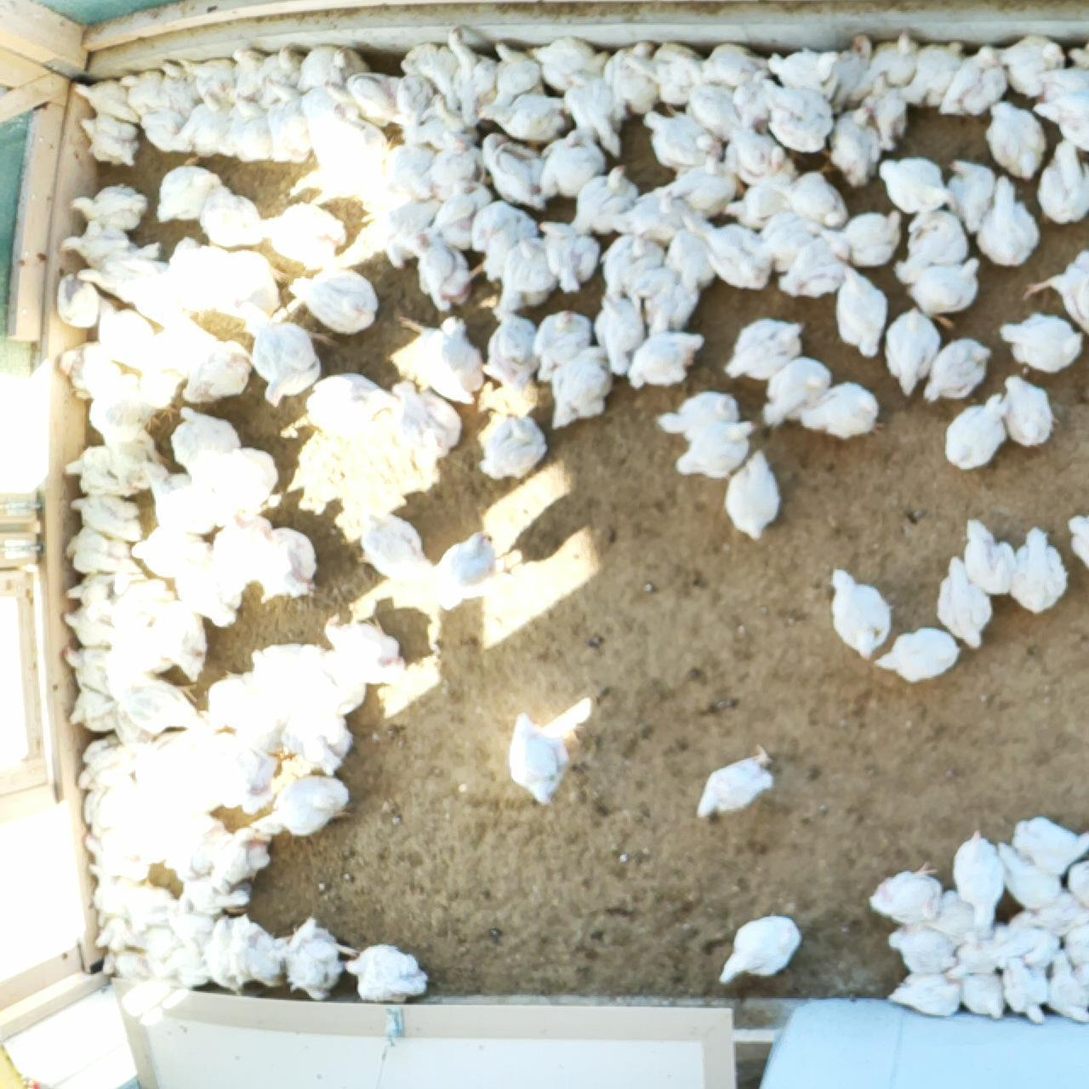chicken: (242, 315, 327, 408), (174, 562, 265, 646), (681, 217, 779, 293), (280, 920, 355, 1015), (824, 566, 898, 659), (753, 83, 847, 156), (498, 718, 578, 803), (929, 558, 999, 655), (978, 177, 1048, 274), (687, 750, 786, 818), (720, 448, 789, 542), (547, 342, 626, 424), (402, 320, 486, 397), (879, 304, 944, 402), (591, 291, 663, 379), (948, 830, 1006, 939), (914, 334, 994, 413), (391, 385, 469, 465), (206, 924, 282, 1006), (825, 202, 914, 271), (890, 215, 978, 283), (166, 409, 248, 481), (752, 356, 837, 425), (295, 269, 387, 331), (723, 318, 812, 382), (800, 379, 885, 446), (619, 180, 704, 247), (499, 227, 572, 305), (721, 914, 802, 984), (661, 157, 748, 222), (305, 375, 399, 435), (773, 233, 857, 298), (617, 332, 708, 392), (408, 240, 487, 309), (869, 625, 963, 682), (942, 398, 1012, 474), (982, 105, 1052, 180), (476, 92, 585, 140), (601, 234, 682, 298), (348, 944, 431, 1006), (1029, 257, 1089, 342), (327, 622, 405, 687), (272, 775, 355, 836), (641, 117, 733, 172), (677, 417, 755, 481), (434, 536, 504, 607), (452, 36, 505, 129), (570, 170, 641, 239), (466, 199, 537, 268), (833, 269, 888, 356), (263, 213, 355, 265), (1014, 527, 1070, 612), (119, 533, 220, 580), (362, 510, 421, 590), (964, 521, 1022, 602), (217, 442, 278, 518), (916, 884, 989, 947), (534, 306, 592, 385), (65, 225, 162, 272), (538, 130, 610, 193), (869, 871, 947, 929), (998, 956, 1058, 1031), (156, 164, 231, 224), (940, 48, 1008, 114), (159, 599, 213, 682), (901, 48, 972, 111), (878, 152, 951, 213), (1036, 139, 1089, 222), (913, 259, 988, 316), (488, 316, 544, 392), (941, 155, 999, 228), (999, 316, 1082, 367), (482, 419, 548, 483), (256, 531, 315, 602), (661, 391, 743, 442), (1001, 844, 1068, 906), (659, 225, 721, 291), (204, 832, 273, 890), (63, 571, 137, 625), (999, 375, 1055, 446), (532, 38, 607, 91), (723, 179, 795, 233), (784, 174, 852, 231), (182, 345, 252, 400), (206, 186, 269, 247), (189, 104, 248, 168), (77, 114, 143, 171), (544, 227, 600, 294), (65, 450, 140, 499), (887, 927, 959, 978), (83, 252, 162, 298), (289, 719, 356, 773), (777, 51, 843, 105), (67, 187, 148, 231), (836, 111, 881, 190), (860, 83, 909, 155), (655, 47, 715, 105), (950, 962, 1013, 1016), (66, 531, 143, 575), (888, 972, 961, 1018), (1010, 820, 1089, 862), (78, 840, 157, 882), (220, 259, 278, 316), (1001, 38, 1063, 91), (1007, 915, 1062, 974), (690, 85, 749, 140), (295, 41, 365, 87), (378, 208, 441, 259), (62, 348, 126, 397), (69, 499, 147, 539), (726, 135, 789, 184), (491, 41, 543, 100), (384, 145, 440, 199), (351, 73, 411, 123), (58, 605, 126, 649), (60, 650, 128, 693), (106, 309, 156, 367), (645, 288, 701, 338), (78, 804, 140, 849), (1045, 956, 1089, 1019), (152, 927, 205, 979), (264, 102, 313, 158), (869, 38, 920, 91), (1039, 91, 1089, 145), (67, 80, 134, 120), (229, 105, 274, 164), (138, 105, 195, 151), (166, 877, 219, 926), (411, 42, 455, 101), (153, 480, 198, 537), (617, 54, 667, 105), (569, 86, 626, 130), (392, 74, 442, 124), (59, 272, 108, 322), (189, 57, 239, 105), (959, 934, 1007, 984), (80, 750, 135, 791), (225, 50, 270, 100), (436, 146, 480, 197), (71, 694, 117, 740), (257, 48, 304, 93), (98, 923, 141, 972), (713, 41, 762, 83), (1035, 898, 1086, 938), (1040, 69, 1089, 108), (91, 883, 134, 925), (123, 71, 168, 111), (162, 67, 200, 114), (248, 82, 304, 107), (1064, 918, 1089, 971), (1073, 509, 1089, 571), (1070, 860, 1089, 905), (1075, 41, 1089, 77)
